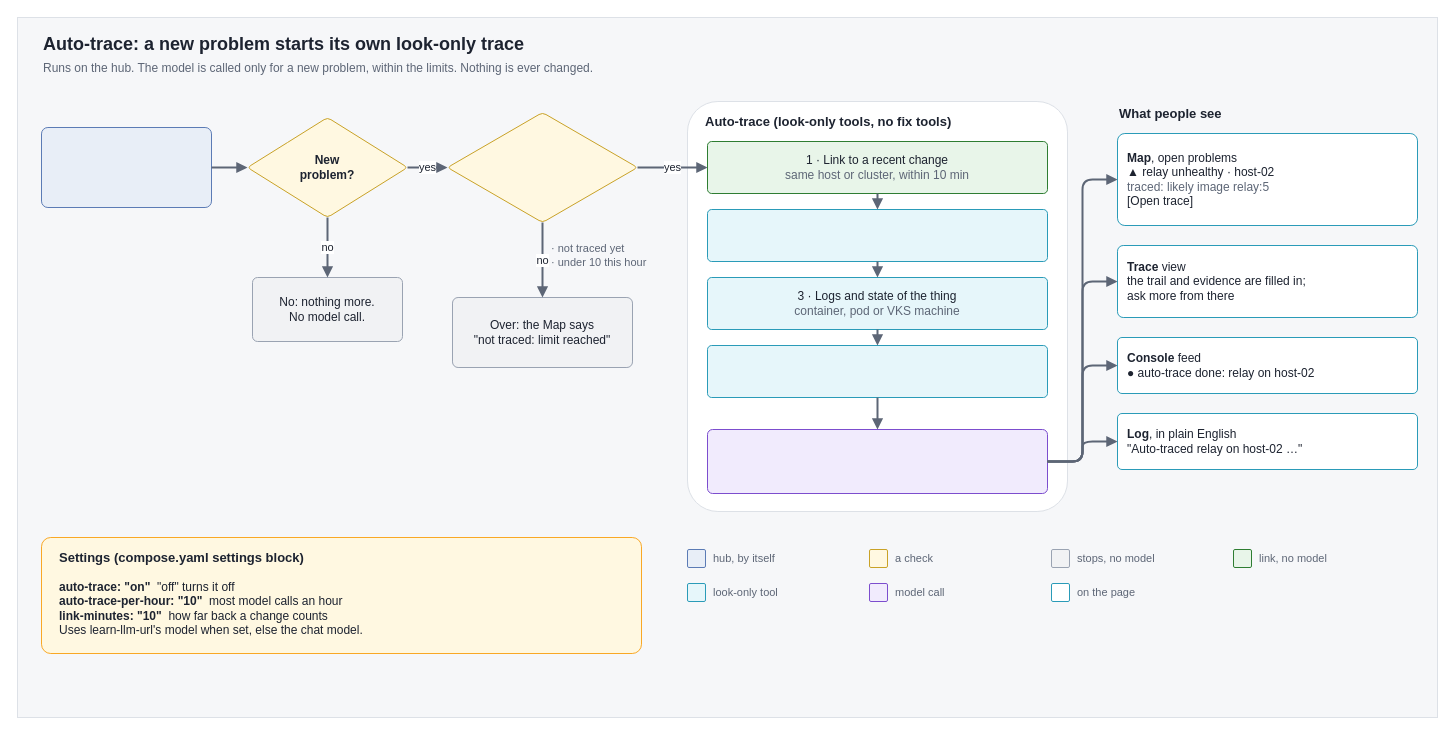
The diagram is 1455 pixels wide and 735 high, and some of its shapes have lost their labels. The centre of each missing label's shape, as x and y in pixels:
2 · what_changed on that host or cluster: (x=877, y=235)
4 · Past cases has this been seen and fixed before?: (x=877, y=371)
5 · The model writes Cause: and Fix: from steps 1 to 4: (x=877, y=461)
Watch round every 60 s on the hub (already runs today): (x=126, y=167)
Within limits?: (x=542, y=167)
